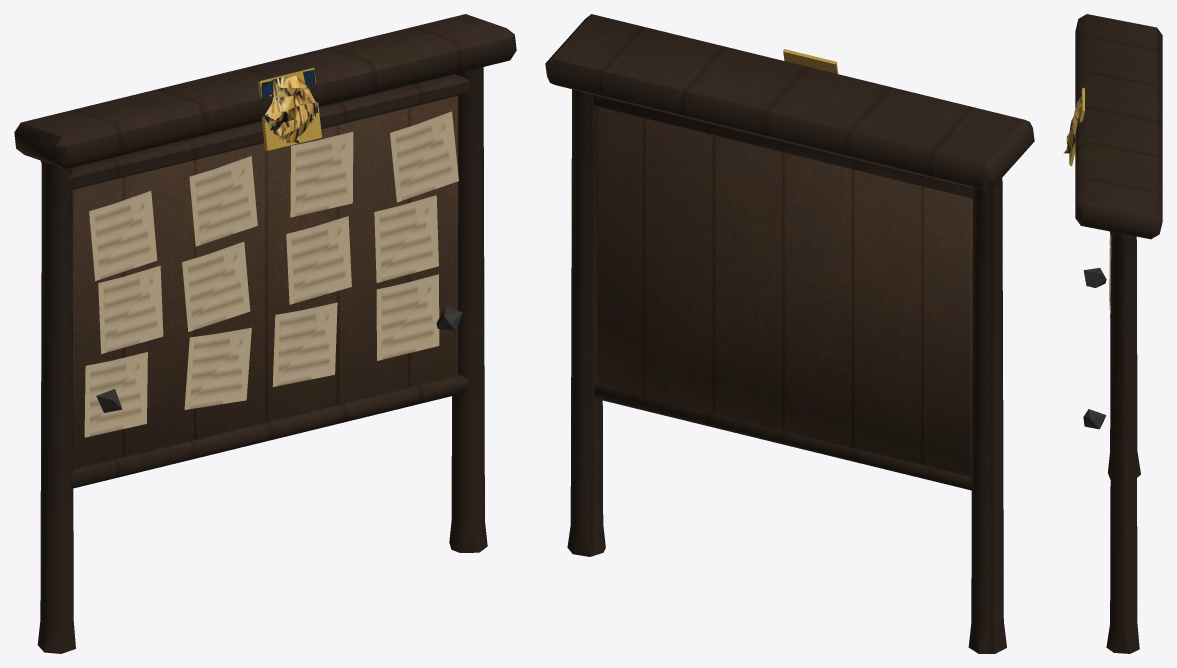
The model's file is quest_board_lod2.glb.
The picture shows the model from 3 angles, left to right: view 1: azimuth 30°, elevation 25°; view 2: azimuth 150°, elevation 25°; view 3: azimuth 270°, elevation 25°; orthographic projection. The views are drawn at different scales.
Parts seen in each view (by area): view 1: quest_board; view 2: quest_board; view 3: quest_board.
Boxes of the visible parts, bbox=[...] form: quest_board: bbox=[14, 14, 516, 653]; quest_board: bbox=[545, 14, 1034, 653]; quest_board: bbox=[1063, 14, 1162, 653].
Bounding box in the file's own units: 1.9 × 2.13 × 0.4145.
1 material, 1 textured.
